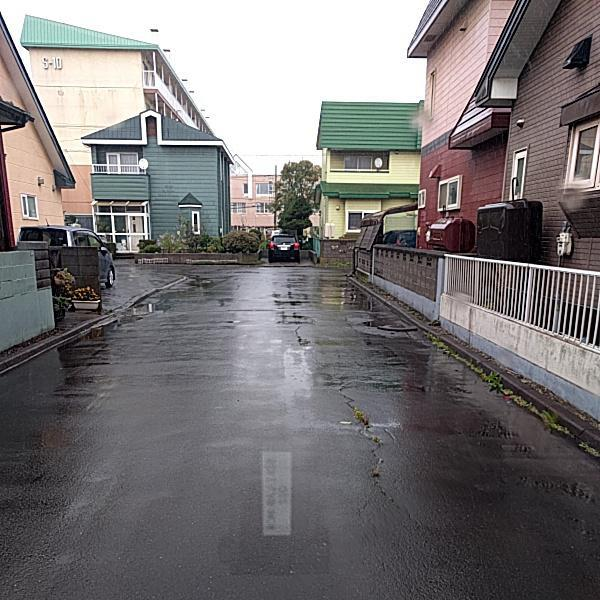D00: (337, 386, 416, 534)
